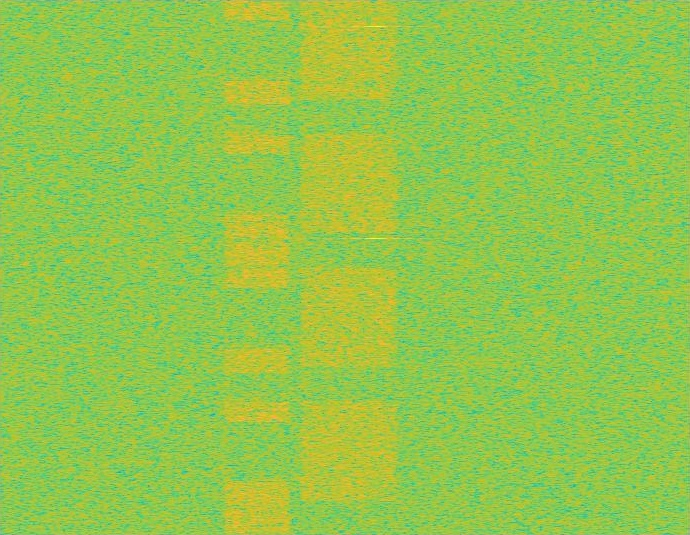5G: (297, 0, 401, 534)
LTE: (223, 0, 292, 534)
Radar: (369, 0, 383, 534)
